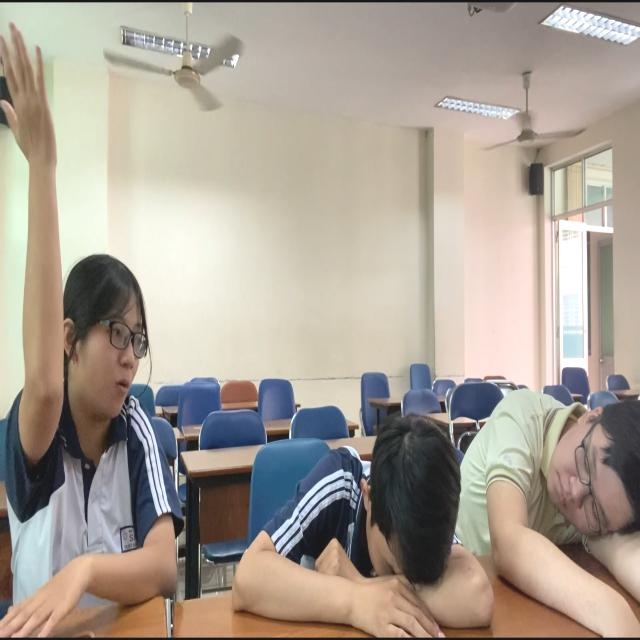raise_hand: (1, 1, 192, 640)
sleep: (234, 402, 508, 640), (462, 317, 640, 640)
